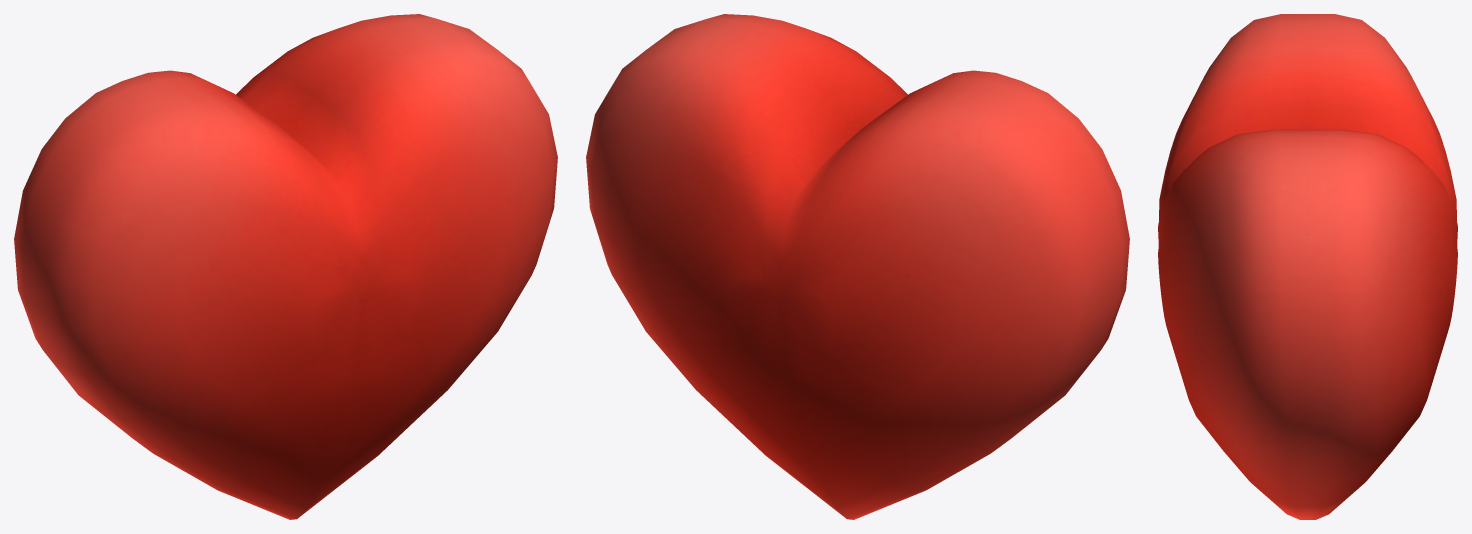
Rendered from heart.fbx.
The picture shows the model from 3 angles, left to right: view 1: azimuth 30°, elevation 25°; view 2: azimuth 150°, elevation 25°; view 3: azimuth 270°, elevation 25°; orthographic projection. The views are drawn at different scales.
Visible parts, largest first — view 1: heart; view 2: heart; view 3: heart.
Part boxes in pixels (x1=…): heart: x1=14, y1=14, x2=557, y2=519; heart: x1=586, y1=14, x2=1129, y2=519; heart: x1=1158, y1=14, x2=1457, y2=519.
Size of the model in its own units: 0.4126 by 0.3551 by 0.2226.
